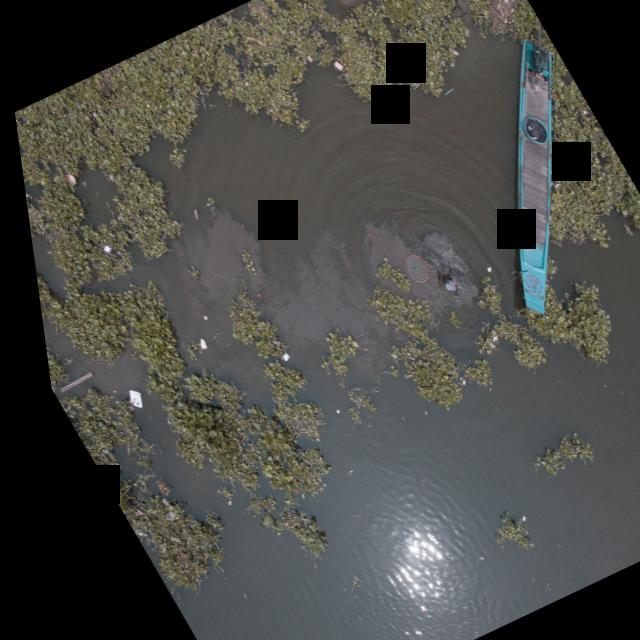plastic: (386, 248, 427, 289), (426, 269, 463, 303), (407, 244, 445, 277), (110, 383, 142, 417), (184, 334, 204, 354), (145, 509, 166, 525), (58, 170, 75, 187), (93, 242, 110, 258), (329, 58, 346, 74), (443, 374, 459, 388), (385, 40, 400, 54), (616, 224, 631, 238), (268, 351, 283, 364), (144, 496, 159, 509), (19, 184, 28, 203), (210, 497, 222, 508), (449, 48, 460, 59), (303, 54, 313, 64), (506, 514, 515, 524)
